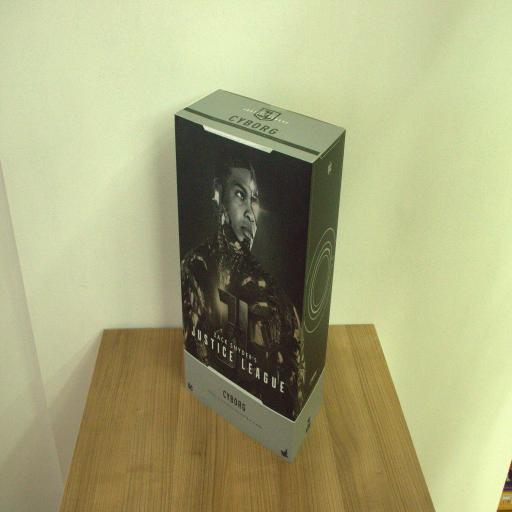Cyborg: (175, 88, 347, 465)
